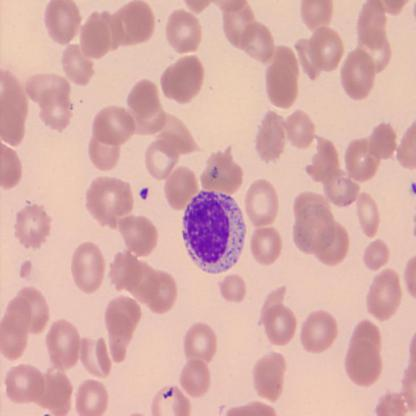Myelocyte: (183, 186, 246, 273)
